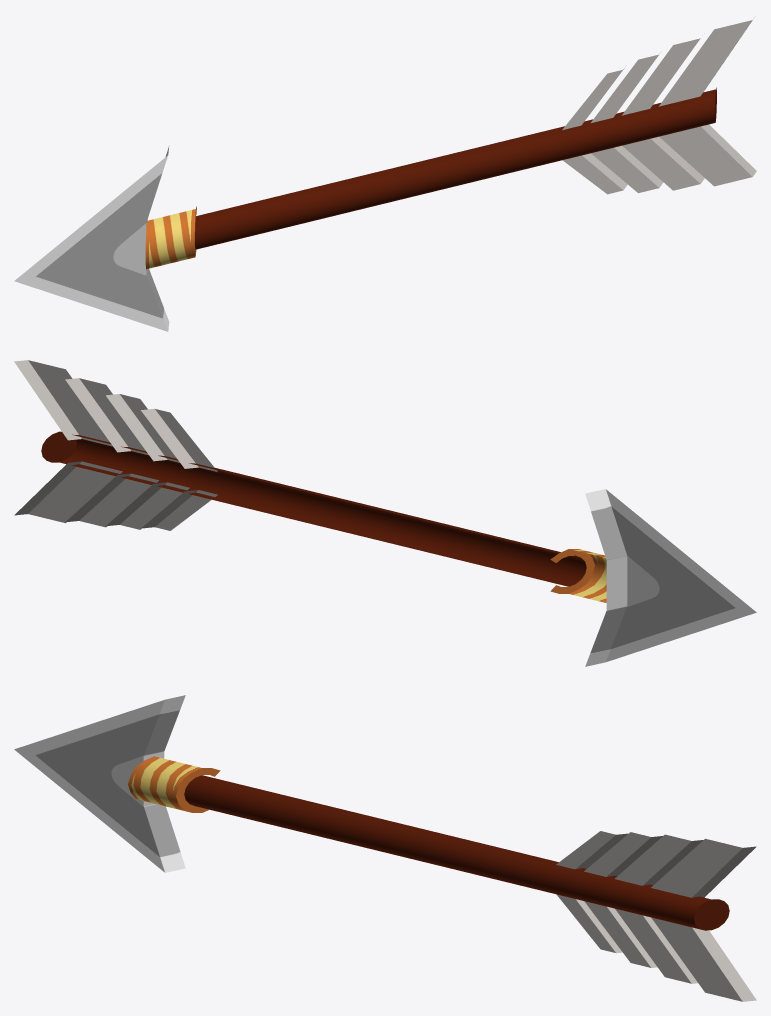
File: Arrow_01.FBX
The picture shows the model from 3 angles, top to bottom: view 1: azimuth 30°, elevation 25°; view 2: azimuth 150°, elevation 25°; view 3: azimuth 330°, elevation 25°; orthographic projection. The views are drawn at different scales.
Parts seen in each view (by area): view 1: Arrow_01; view 2: Arrow_01; view 3: Arrow_01.
Part boxes in pixels (box(x1,y1,x2,y2)): Arrow_01: box(14, 20, 756, 331); Arrow_01: box(14, 360, 756, 666); Arrow_01: box(14, 695, 756, 1001).
Bounding box in the file's own units: 34.1 × 7.68 × 1.7.
